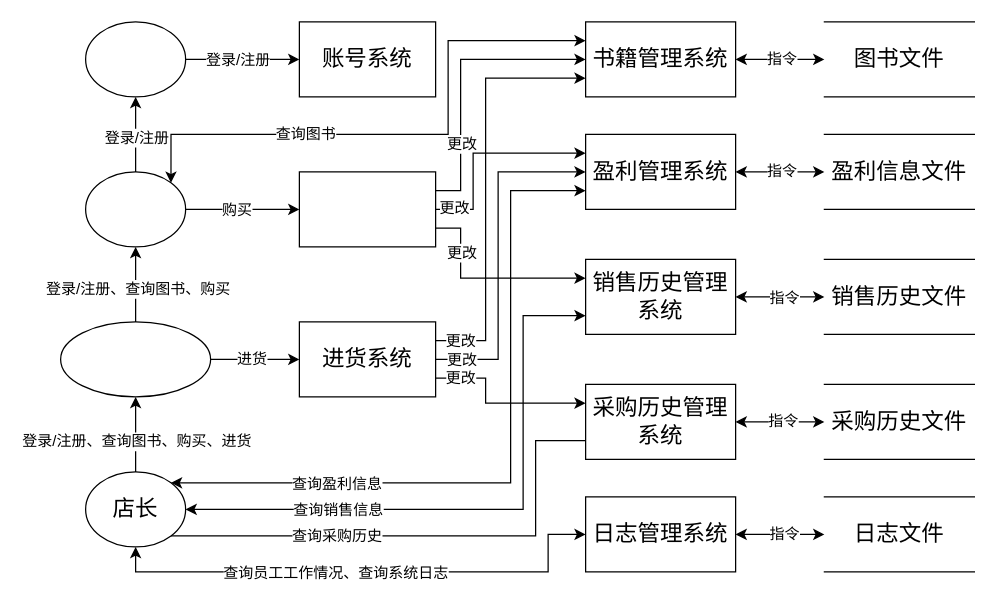
This 996x605 diagram has some shape labels left out. Here are the shapes that lost their labels. From the top down, the centre of each, then its label:
At [135,59]: "游客".
At [135,209]: "顾客".
At [367,209]: "购书系统".
At [135,359]: "销售人员".
